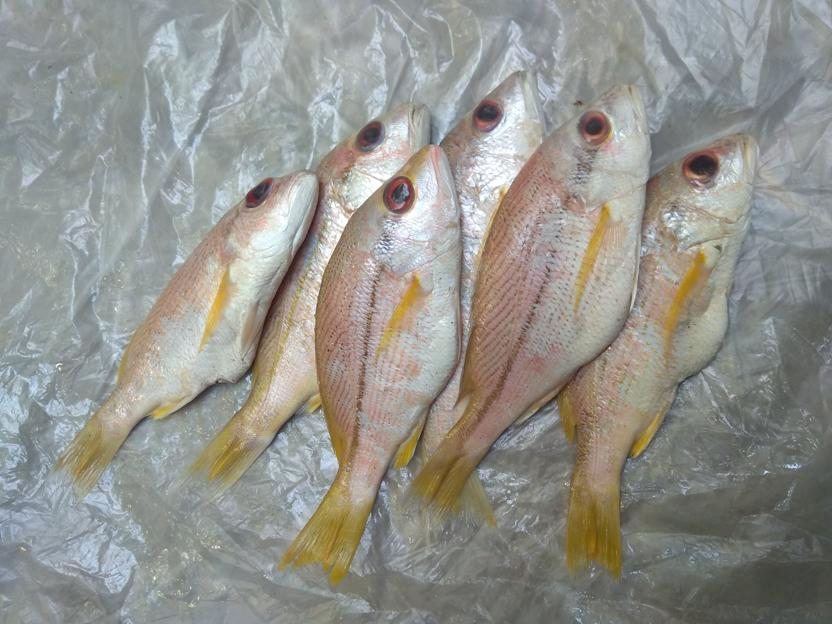Fish head: (442, 70, 549, 218), (645, 132, 761, 250), (548, 84, 650, 211), (325, 103, 429, 212), (219, 170, 321, 267)
Fish tail: (278, 481, 376, 593), (184, 407, 277, 499), (400, 438, 481, 532), (51, 412, 127, 498), (566, 483, 625, 579)
